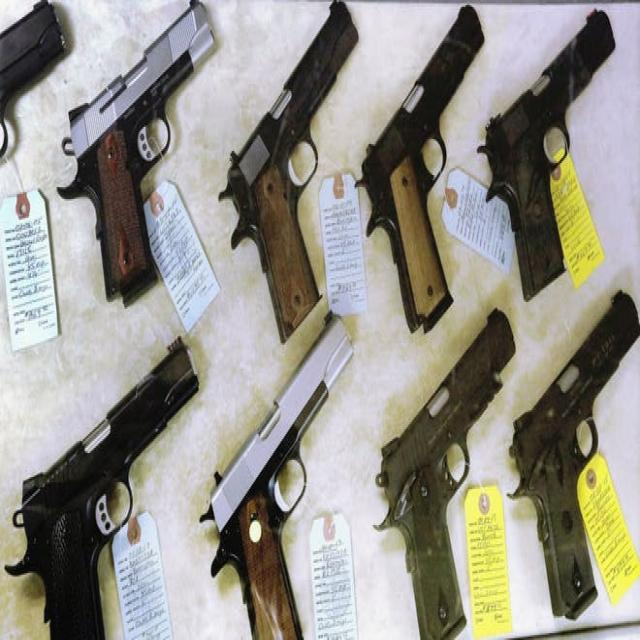HandGun: (11, 341, 200, 640), (200, 300, 355, 640), (218, 0, 359, 345), (57, 0, 215, 304), (373, 309, 516, 640), (509, 290, 640, 621), (476, 12, 616, 304), (362, 5, 485, 335)
